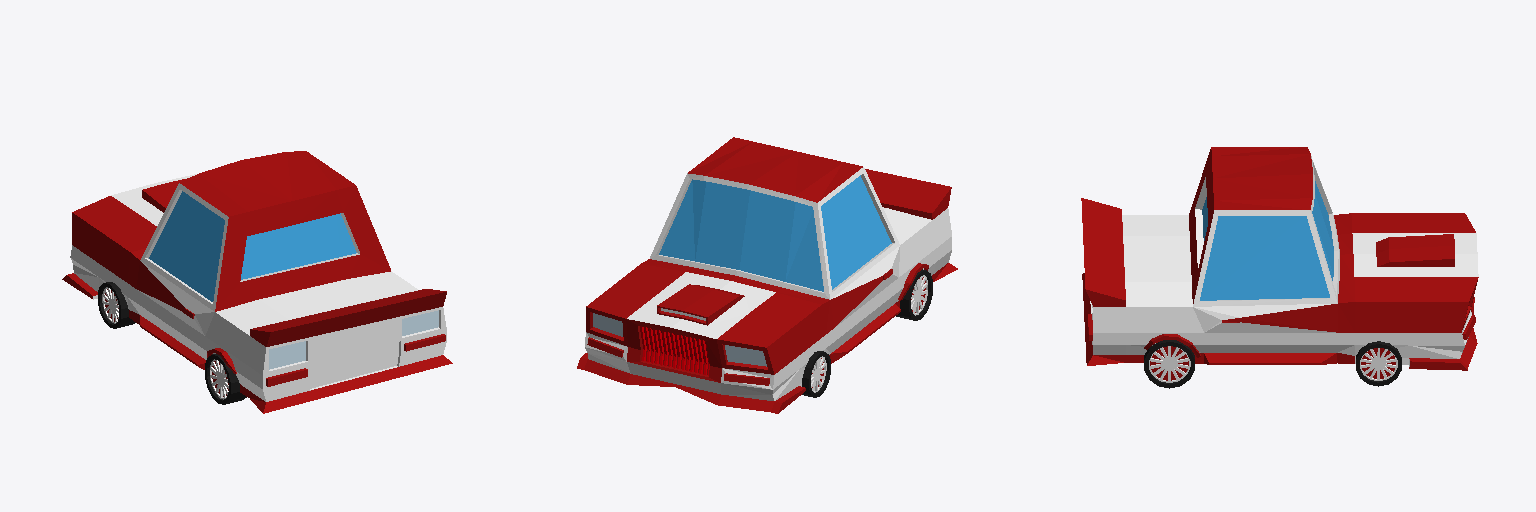
File: gimmick_car.obj
3 renders of one model, left to right at view 1: azimuth 30°, elevation 25°; view 2: azimuth 150°, elevation 25°; view 3: azimuth 270°, elevation 25°, orthographic.
Parts seen in each view (by area): view 1: front_fender_ID47_body_ID56.002, backlight_ID75, wheel.1_ID84, wheel1.1_ID93; view 2: front_fender_ID47_body_ID56.002, lattice.1_ID29, wheel.1_ID84, headlight_ID66, wheel1.1_ID93; view 3: front_fender_ID47_body_ID56.002, wheel.1_ID84, wheel1.1_ID93.
Part boxes in pixels (x1,y1,x2,y2): front_fender_ID47_body_ID56.002: (62, 151, 452, 413); backlight_ID75: (269, 310, 438, 369); wheel.1_ID84: (205, 354, 246, 404); wheel1.1_ID93: (98, 282, 135, 328); front_fender_ID47_body_ID56.002: (577, 137, 957, 413); lattice.1_ID29: (640, 326, 709, 375); wheel.1_ID84: (896, 269, 932, 320); headlight_ID66: (593, 313, 766, 366); wheel1.1_ID93: (802, 351, 830, 397); front_fender_ID47_body_ID56.002: (1081, 147, 1478, 370); wheel.1_ID84: (1144, 340, 1194, 388); wheel1.1_ID93: (1356, 341, 1401, 386).
Size of the model in its own units: 1.41 by 1.1 by 2.38.